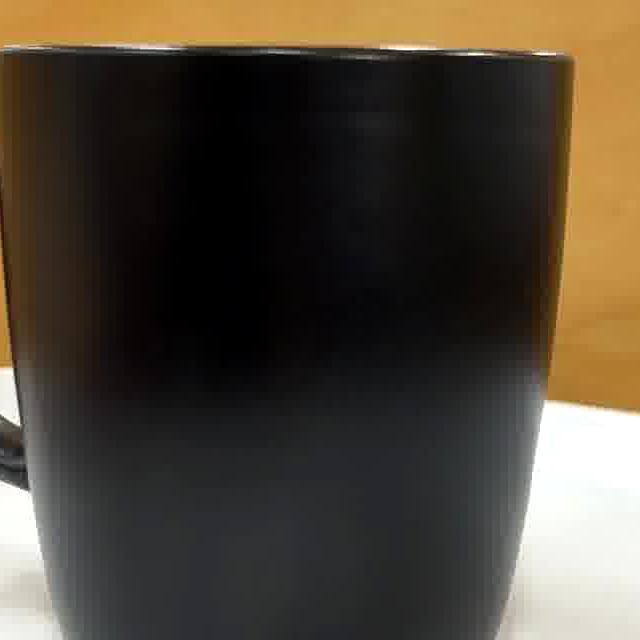cup: (0, 47, 568, 640)
